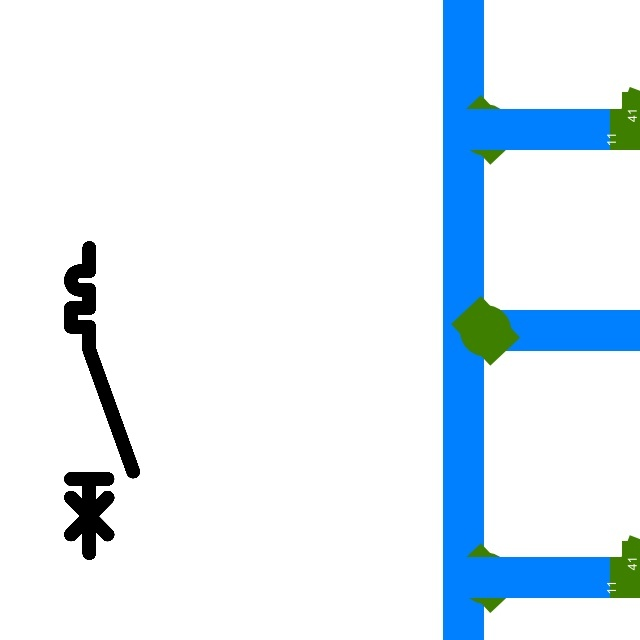interruptor_termomagnetico: (63, 240, 141, 561)
